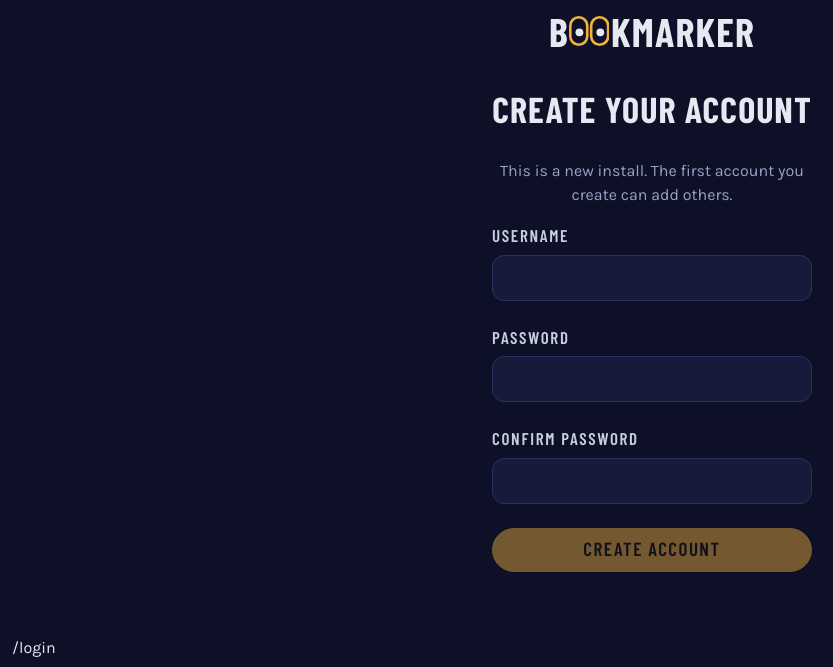
Test case: Login › first-run setup › checks the passwords match
The width and height of the screenshot is (833, 667).
Type "paul" into the field labelled "Username".
click(652, 278); type("paul")  # box [492,254,812,300]
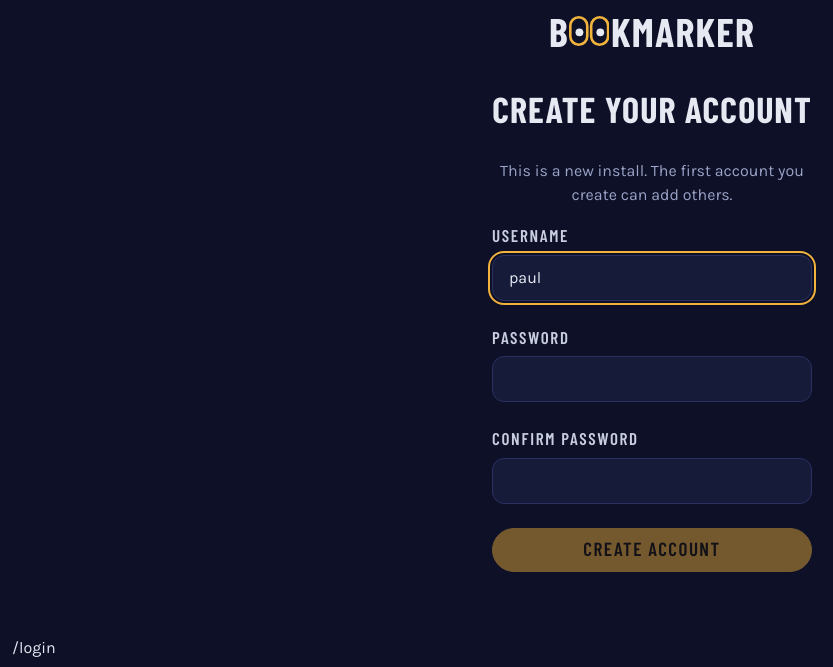
Type "long-enough" into the password field labelled "Password".
click(652, 379); type("long-enough")  # box [492,356,812,402]
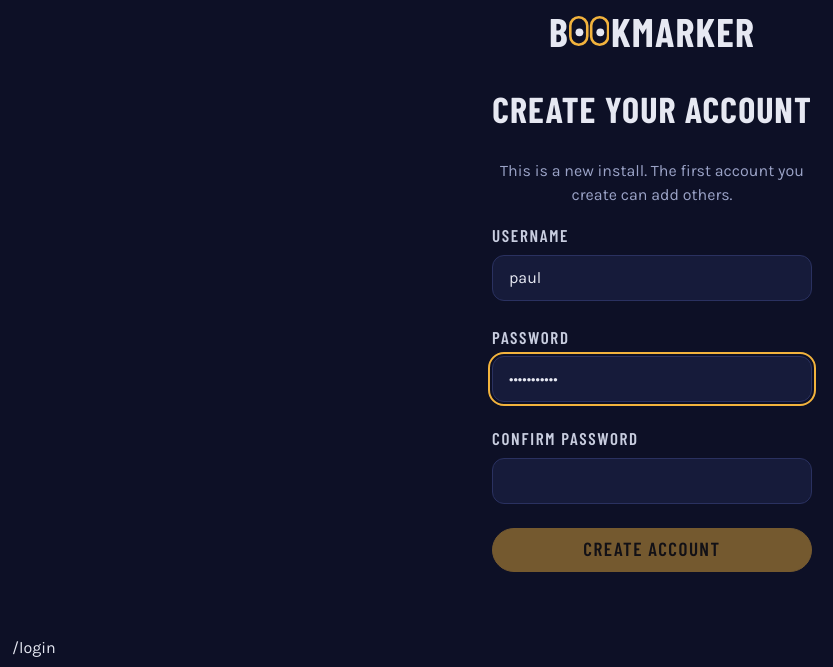
Type "other" into the password field labelled "Confirm password".
click(652, 480); type("other")  # box [492,458,812,504]
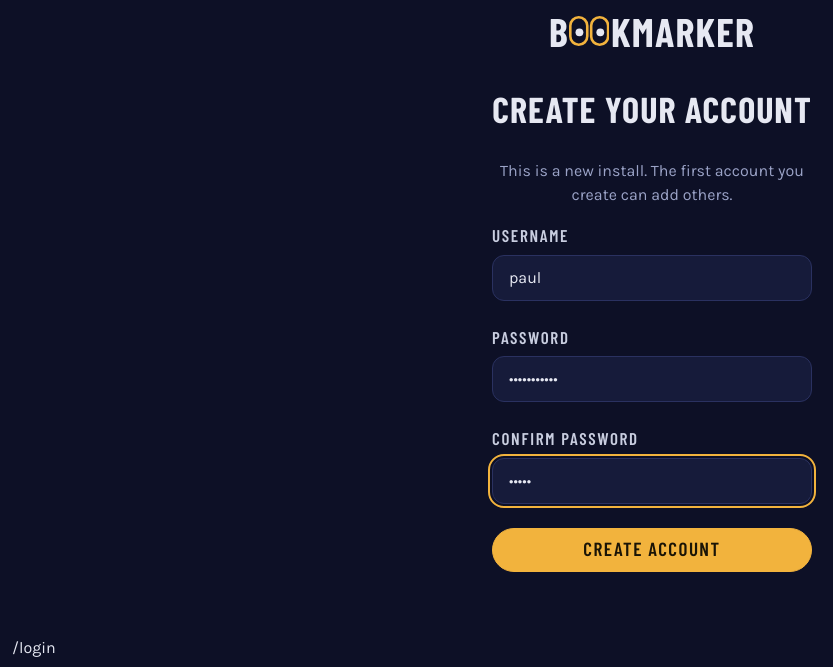
Click the button "Create account".
click(652, 550)  # box [492,528,812,572]
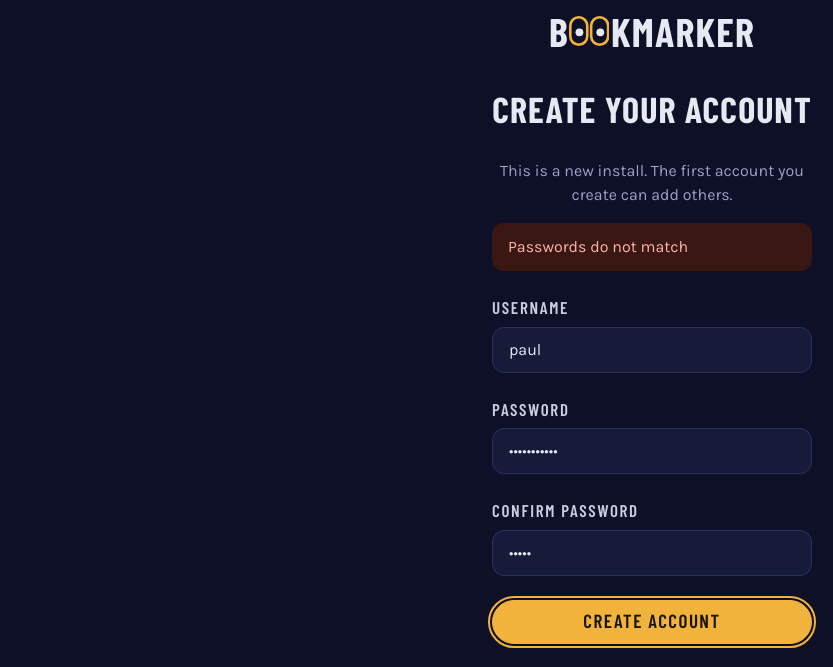
Check: the message reads "Passwords do not match", box [508,237,688,256]
